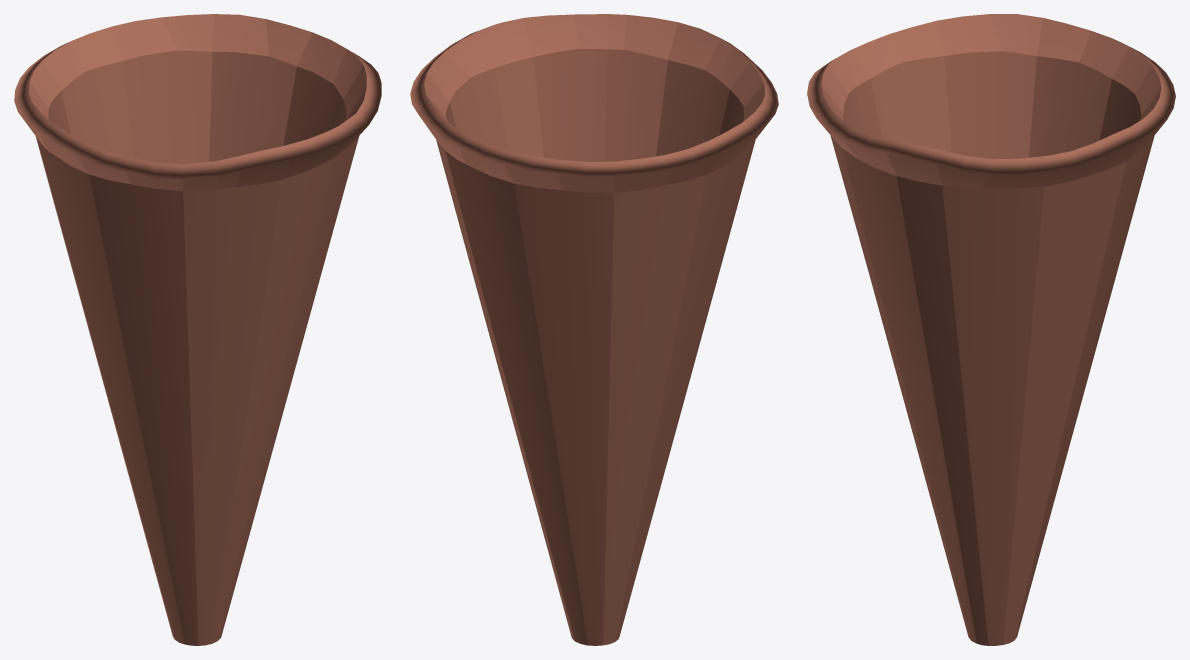
Rendered from level22.1.fbx.
3 renders of one model, left to right at view 1: azimuth 30°, elevation 25°; view 2: azimuth 150°, elevation 25°; view 3: azimuth 270°, elevation 25°, orthographic.
Visible parts, largest first — view 1: polySurface111; view 2: polySurface111; view 3: polySurface111.
Part boxes in pixels (x1,y1,x2,y2): polySurface111: (14,14,381,645); polySurface111: (410,14,778,645); polySurface111: (807,14,1175,645).
Size of the model in its own units: 8.93 by 14.89 by 8.87.
